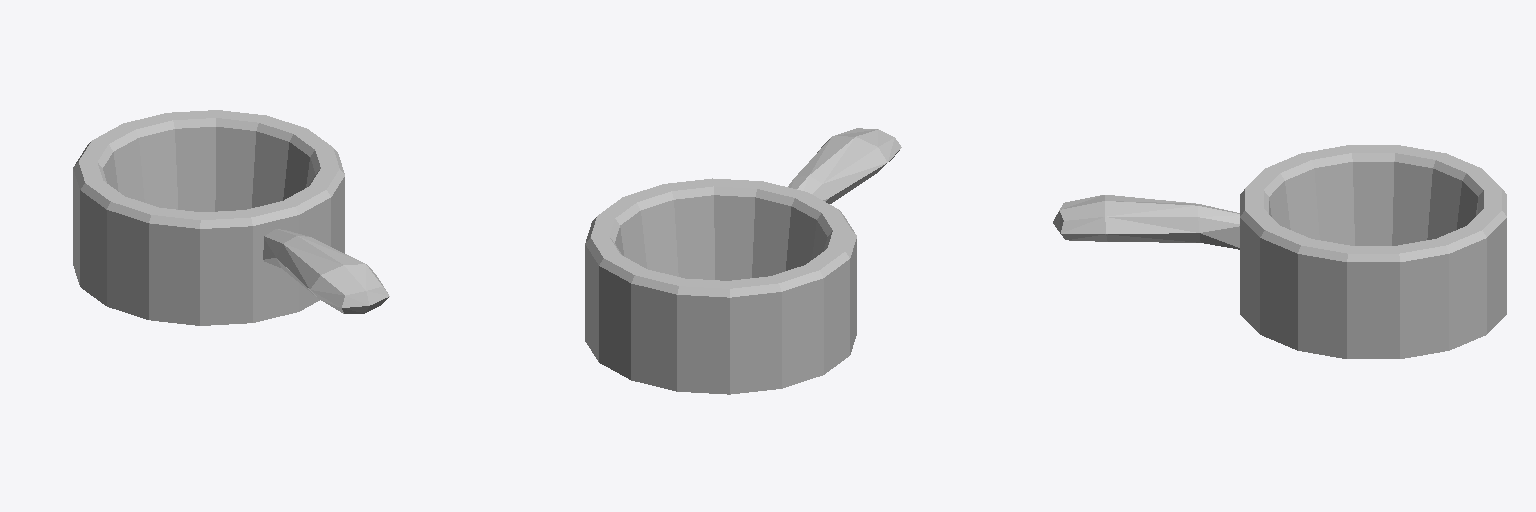
Rendered from pan_006.obj.
3 renders of one model, left to right at view 1: azimuth 30°, elevation 25°; view 2: azimuth 150°, elevation 25°; view 3: azimuth 270°, elevation 25°, orthographic.
Parts seen in each view (by area): view 1: pan.006_Cylinder.230; view 2: pan.006_Cylinder.230; view 3: pan.006_Cylinder.230.
Part boxes in pixels (bbox=[...]): pan.006_Cylinder.230: bbox=[73, 110, 389, 325]; pan.006_Cylinder.230: bbox=[585, 128, 901, 394]; pan.006_Cylinder.230: bbox=[1053, 145, 1506, 358].
Bounding box in the file's own units: 0.75 × 0.35 × 1.27.